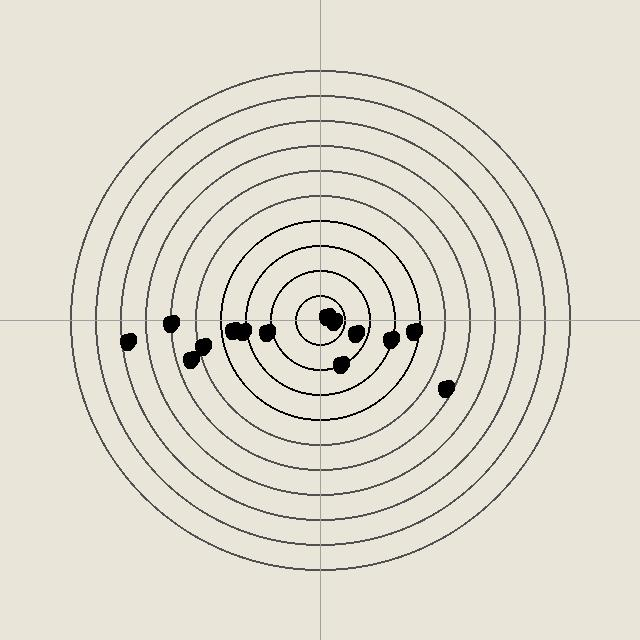horizontal_scatter: (380, 329, 400, 349), (345, 323, 365, 343), (256, 322, 276, 342), (330, 354, 350, 374), (160, 313, 180, 333), (403, 321, 423, 341), (435, 378, 455, 398), (323, 311, 343, 331), (222, 320, 242, 340), (316, 306, 336, 326), (180, 349, 200, 369), (192, 336, 212, 356), (232, 321, 252, 341), (117, 331, 137, 351)
